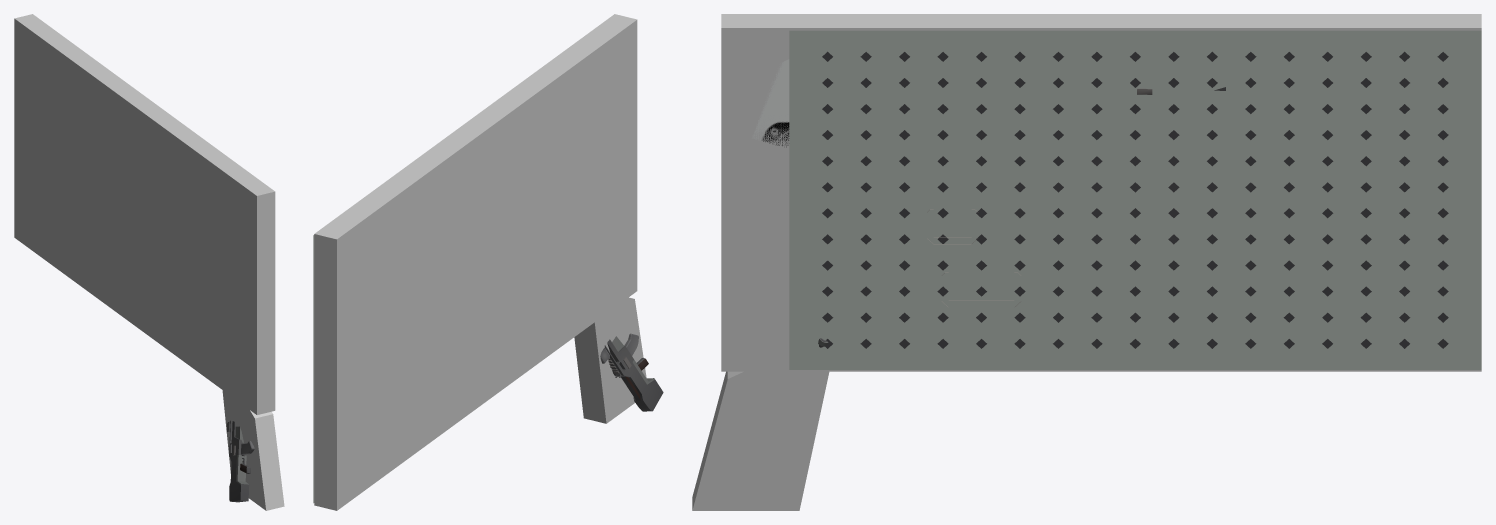
File: SM_Gun_Shop_Panel.fbx
3 views of the same model, side by side, from view 1: azimuth 30°, elevation 25°; view 2: azimuth 150°, elevation 25°; view 3: azimuth 270°, elevation 25° (orthographic). The views are drawn at different scales.
Visible parts, largest first — view 1: SM_Gun_Shop_Panel_ConvexHulls, SM_Gun_Shop_Panel; view 2: SM_Gun_Shop_Panel_ConvexHulls, SM_Gun_Shop_Panel; view 3: SM_Gun_Shop_Panel, SM_Gun_Shop_Panel_ConvexHulls.
Part boxes in pixels (x1,y1,x2,y2): SM_Gun_Shop_Panel_ConvexHulls: [14, 14, 284, 510]; SM_Gun_Shop_Panel: [226, 420, 254, 502]; SM_Gun_Shop_Panel_ConvexHulls: [314, 14, 646, 510]; SM_Gun_Shop_Panel: [313, 235, 663, 503]; SM_Gun_Shop_Panel: [752, 30, 1481, 369]; SM_Gun_Shop_Panel_ConvexHulls: [692, 14, 1481, 510].
Bounding box in the file's own units: 38.68 × 416 × 281.
Materials: 2 (1 with a texture image).
